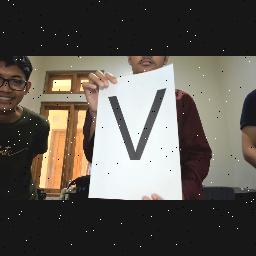v: (106, 87, 170, 163)
